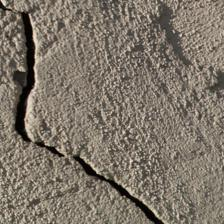Crack: (12, 9, 65, 157), (79, 155, 166, 222)
